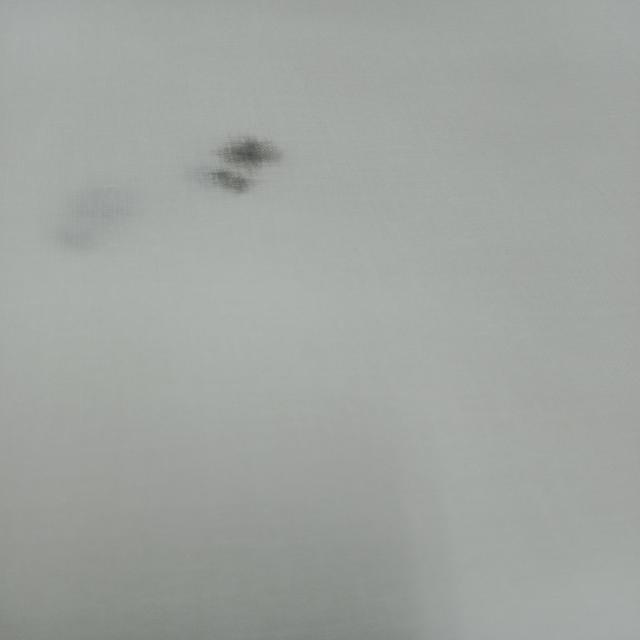stain: (198, 128, 294, 200), (52, 185, 148, 256)
